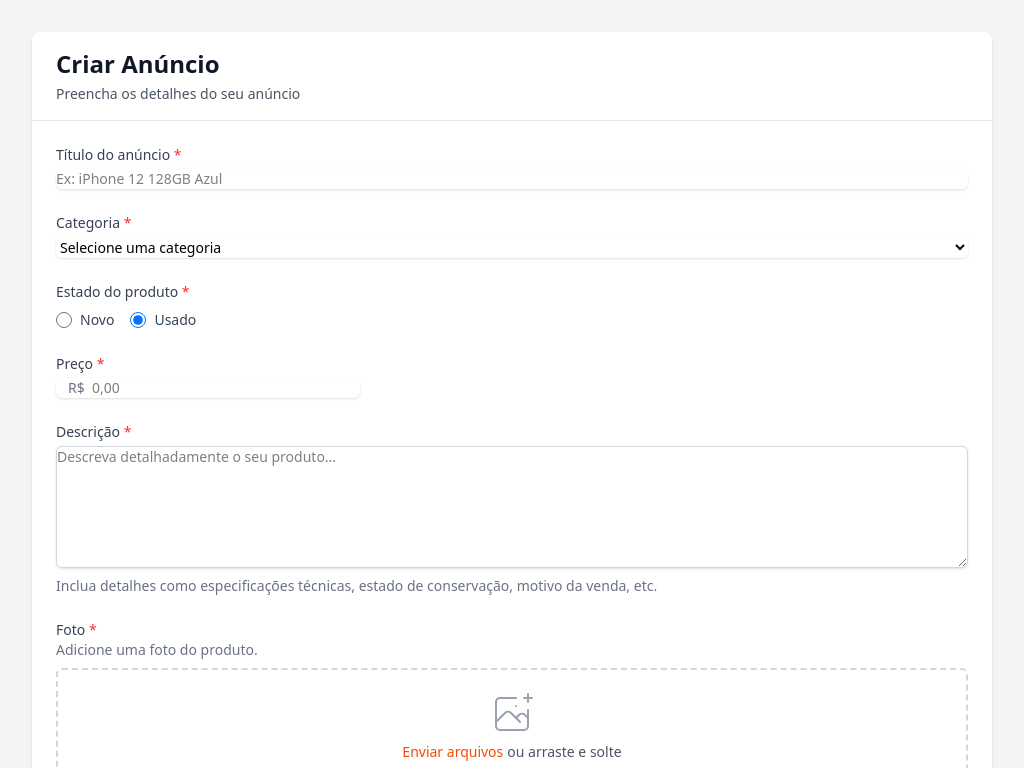
Test: Anunciar Component › deve exibir características quando categoria é selecionada
The image size is (1024, 768).
Select "Celular e Telefonia" in the dropdown labelled "Categoria *" at (512, 248), box [56,237,968,258]
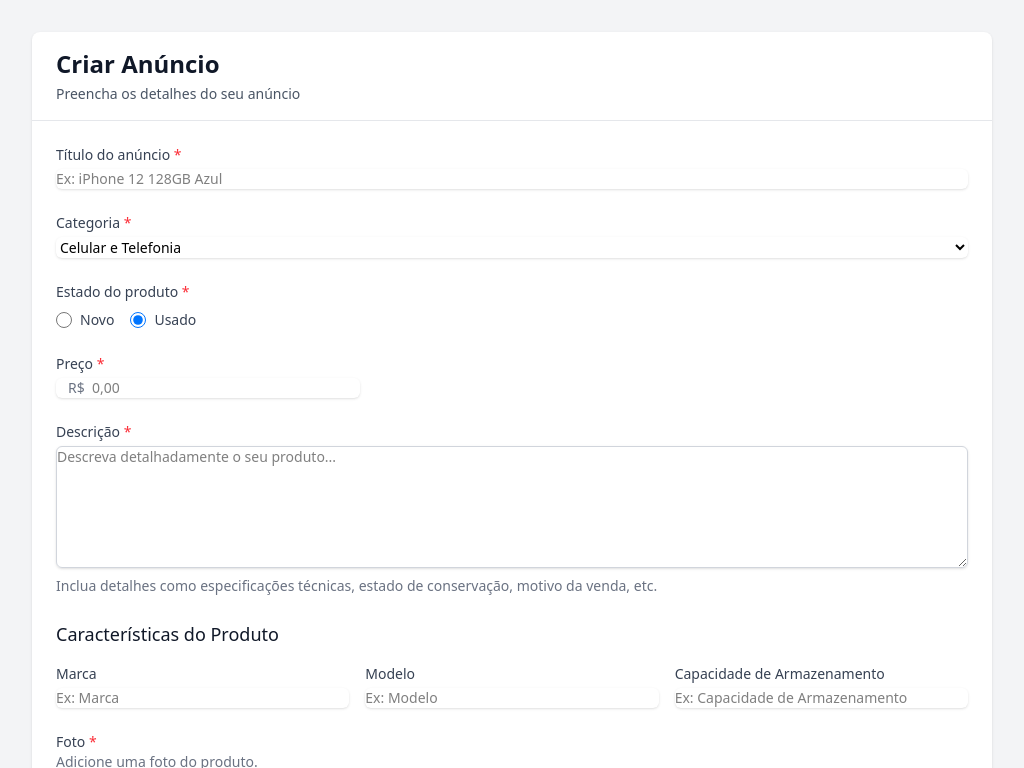
expect the heading "Características do Produto" is shown: met, box [56,622,279,646]
expect the field labelled "Marca" is shown: met, box [56,688,349,708]
